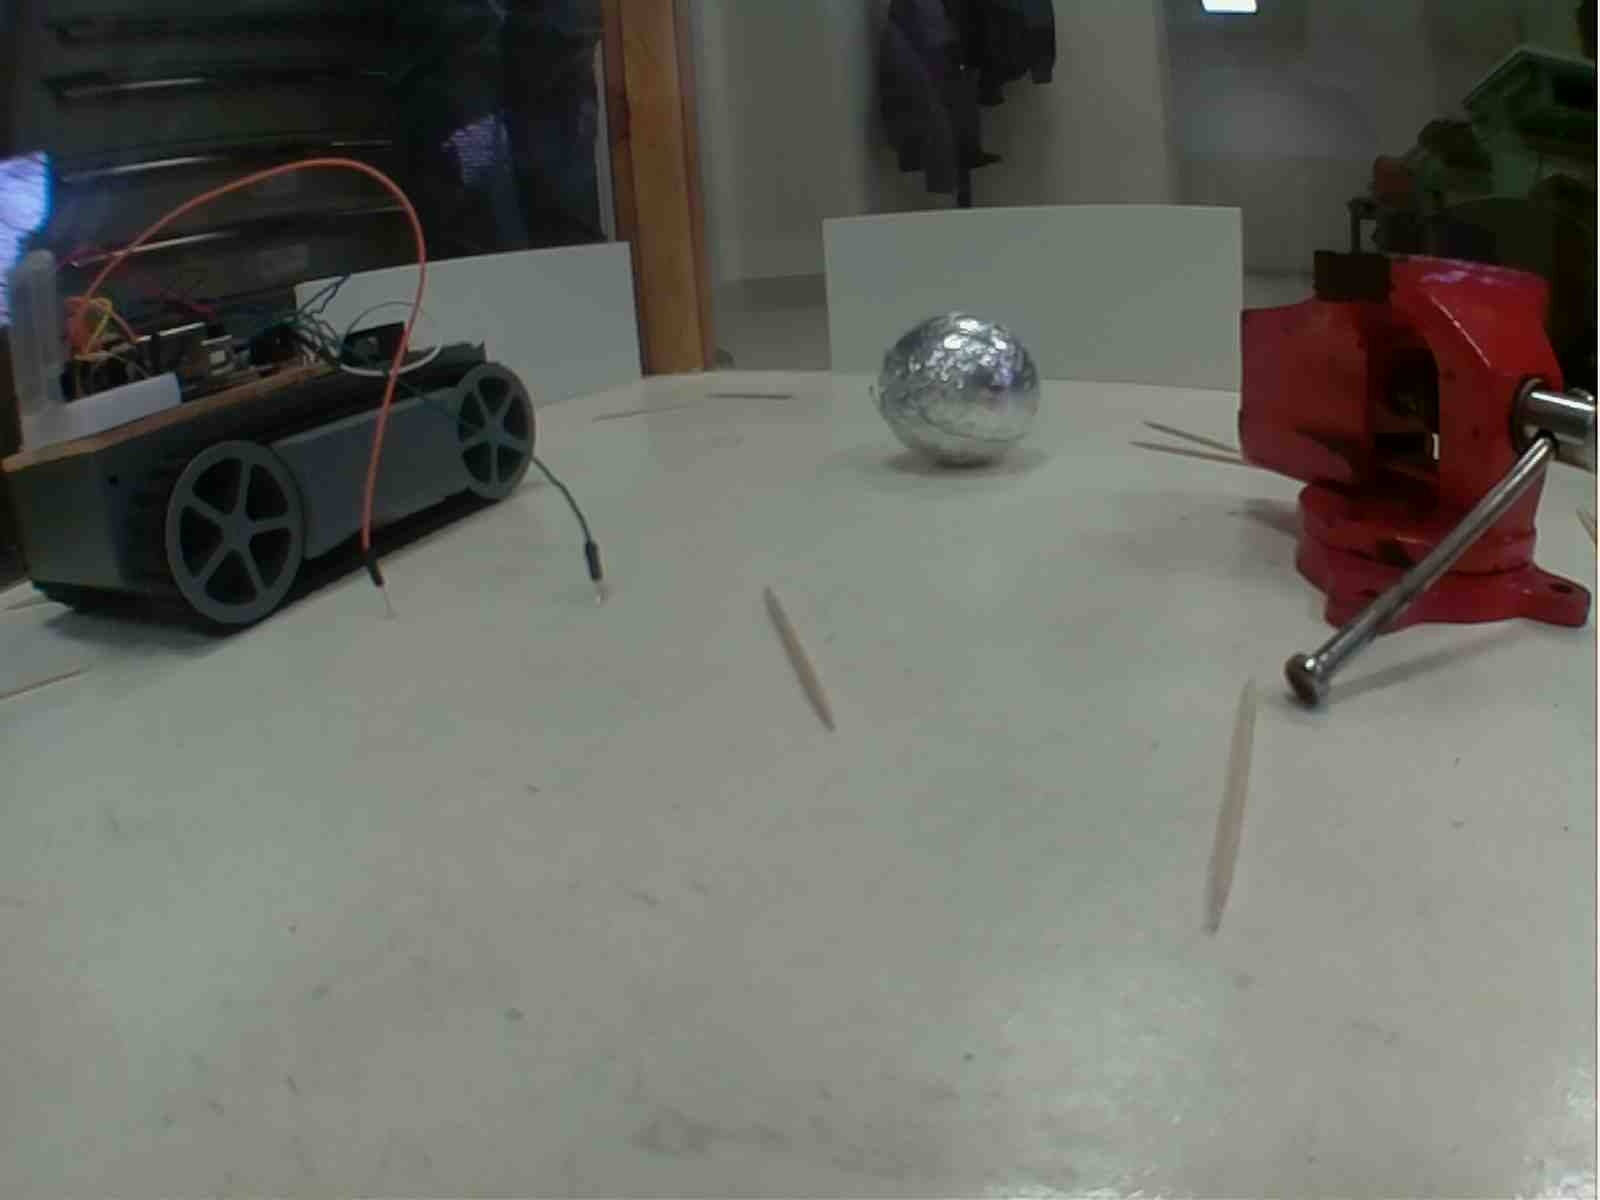bianca: (871, 308, 1049, 464)
